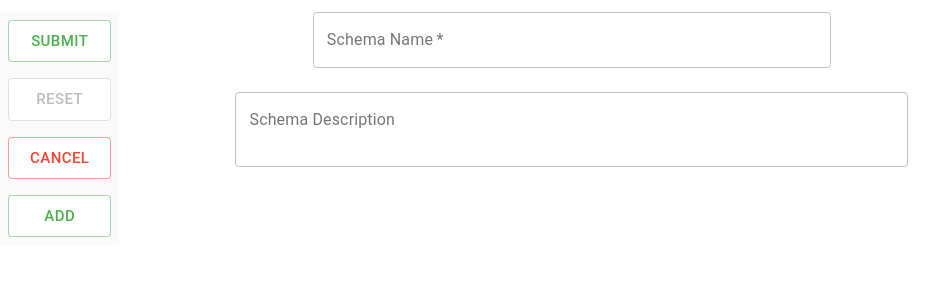
it: SchemasBoard without "activeSchemaId" › SchemasBoard is displayed back when "Cancel" button is clicked ("mode" = "ADD")
Click the button "Cancel": (60, 158) left=8, top=136, right=111, bottom=179
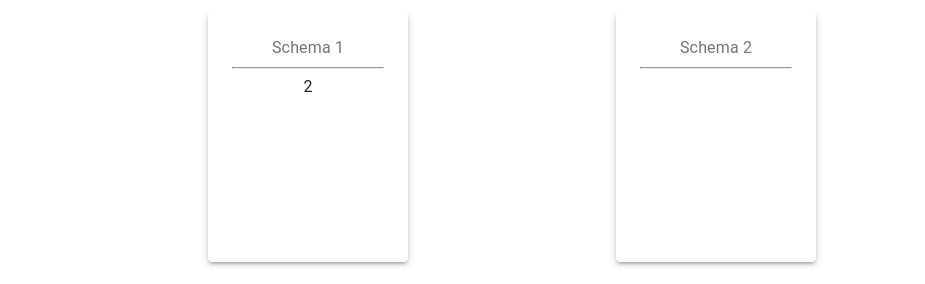
Result: the button "Schema 1 2" is shown at left=208, top=12, right=408, bottom=262
Result: the button "Schema 2" is shown at left=616, top=12, right=816, bottom=262
